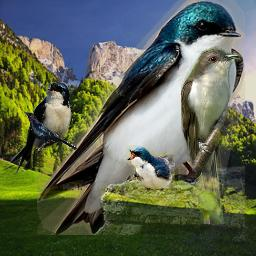Crow: (24, 112, 77, 153)
Cuckoo: (181, 43, 242, 224)
Swallow: (37, 0, 245, 235), (10, 82, 72, 175), (125, 145, 175, 192)
